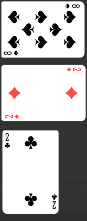2C: (4, 132, 12, 149)
2D: (66, 66, 83, 72)
AC: (51, 192, 58, 210)
